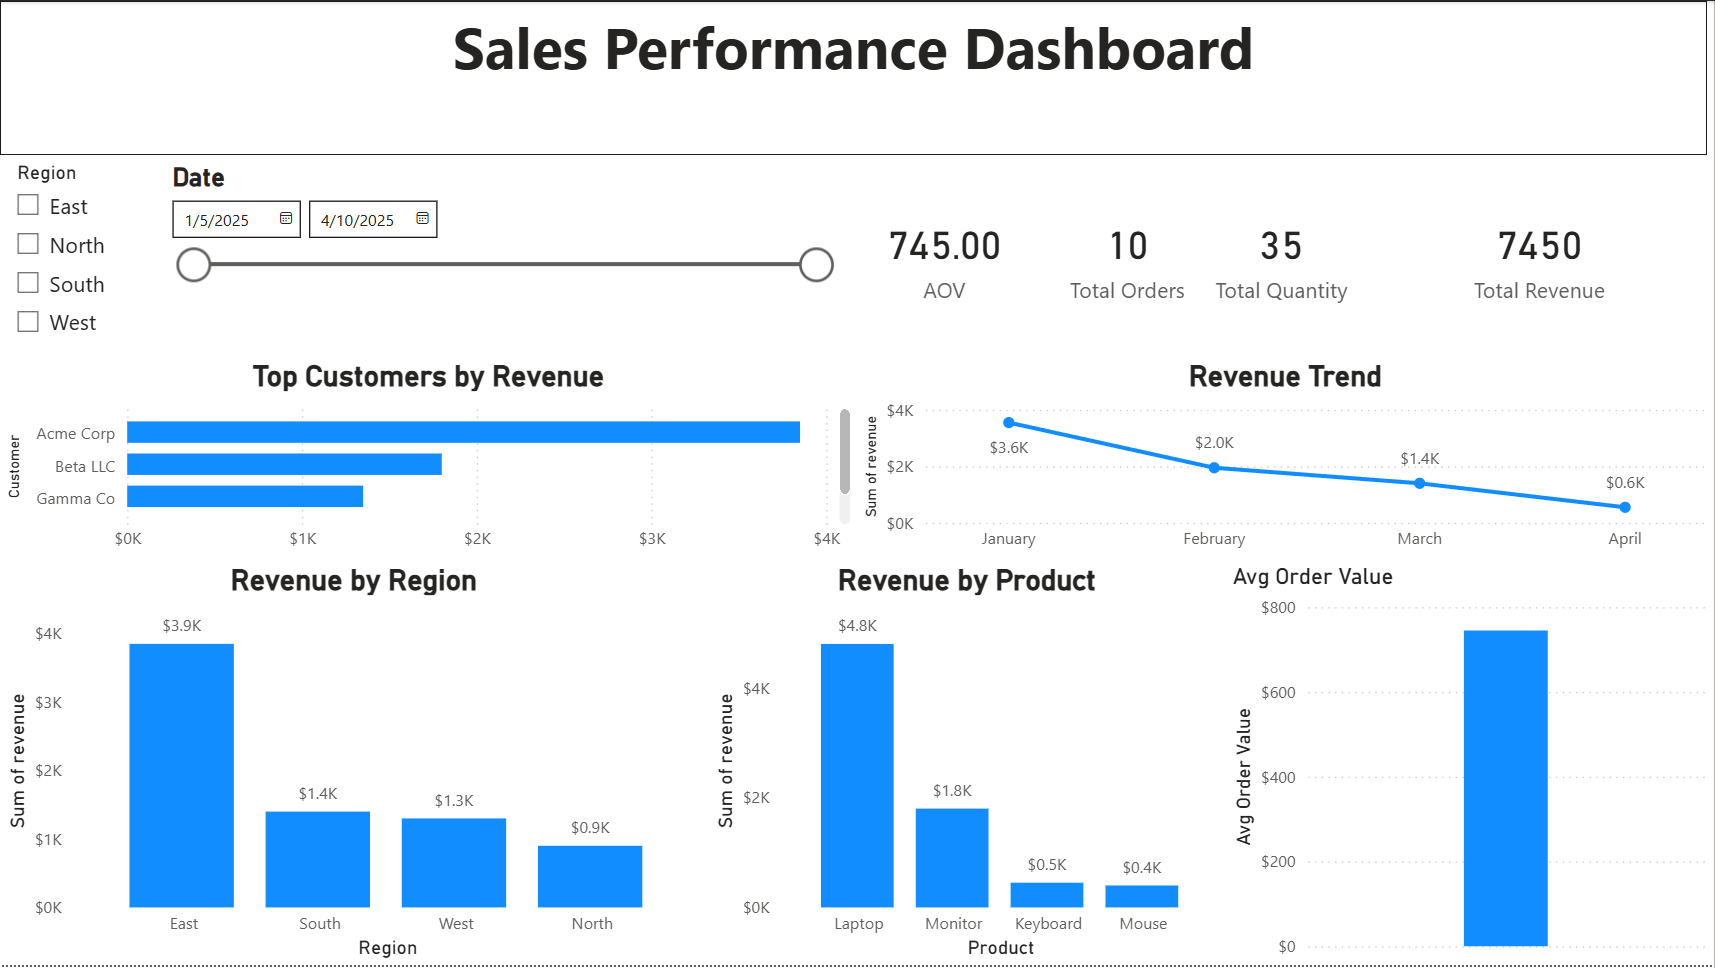

What the dashboard file says about the page in this screenshot:
{"tool":"powerbi","page":{"name":"Page 1","canvas":[1280,720],"ordinal":0},"visuals":[{"type":"clusteredColumnChart","title":"Revenue by Product","fields":{"Category":["Sheet1.Product"],"Y":["Sum(Sheet1.revenue)"]},"box":[528.7,419.7,386.8,300.2],"z":0},{"type":"clusteredColumnChart","title":"Revenue by Region","fields":{"Category":["Sheet1.Region"],"Y":["Sum(Sheet1.revenue)"]},"box":[0,419.7,528.7,300.2],"z":1000},{"type":"slicer","fields":{"Values":["Sheet1.Region"]},"box":[0,115,115.8,152.3],"z":3000},{"type":"slicer","fields":{"Values":["Sheet1.Date"]},"box":[115.8,115,514.5,152.3],"z":4000},{"type":"clusteredColumnChart","fields":{"Y":["Sheet1.Avg Order Value"]},"box":[915.6,419.7,364.4,300.2],"z":5000},{"type":"lineChart","title":"Revenue Trend","fields":{"Category":["Sheet1.Date.Variation.Date Hierarchy.Month"],"Y":["Sum(Sheet1.revenue)"]},"box":[640,267.4,640,152.3],"z":6000},{"type":"barChart","title":"Top Customers by Revenue","fields":{"Category":["Sheet1.Customer"],"Y":["Sum(Sheet1.revenue)"]},"box":[0,267.4,640,152.3],"z":7000},{"type":"textbox","box":[0,0,1274.8,115],"z":8000},{"type":"card","fields":{"Values":["Sheet1.AOV"]},"box":[630.3,115,150.1,152.3],"z":8001},{"type":"card","fields":{"Values":["Sheet1.Total Orders"]},"box":[789.4,115,105.3,152.3],"z":8002},{"type":"card","fields":{"Values":["Sheet1.Total Quantity"]},"box":[894.7,115,124.7,152.3],"z":8003},{"type":"card","fields":{"Values":["Sheet1.Total Revenue"]},"box":[1019.4,115,260.6,152.3],"z":8004}]}

Visuals, with their boxes in screenshot pixels (x1, y1, x2, y2), scaled from the page's 1280x720 canvas onto the 1715x968 screenshot:
"Revenue by Product" clusteredColumnChart: rect(708, 564, 1227, 967)
"Revenue by Region" clusteredColumnChart: rect(0, 564, 708, 967)
slicer - Sheet1.Region: rect(0, 155, 155, 359)
slicer - Sheet1.Date: rect(155, 155, 845, 359)
clusteredColumnChart - Sheet1.Avg Order Value: rect(1227, 564, 1714, 967)
"Revenue Trend" lineChart: rect(858, 360, 1714, 564)
"Top Customers by Revenue" barChart: rect(0, 360, 858, 564)
textbox: rect(0, 0, 1708, 155)
card - Sheet1.AOV: rect(845, 155, 1046, 359)
card - Sheet1.Total Orders: rect(1058, 155, 1199, 359)
card - Sheet1.Total Quantity: rect(1199, 155, 1366, 359)
card - Sheet1.Total Revenue: rect(1366, 155, 1714, 359)
